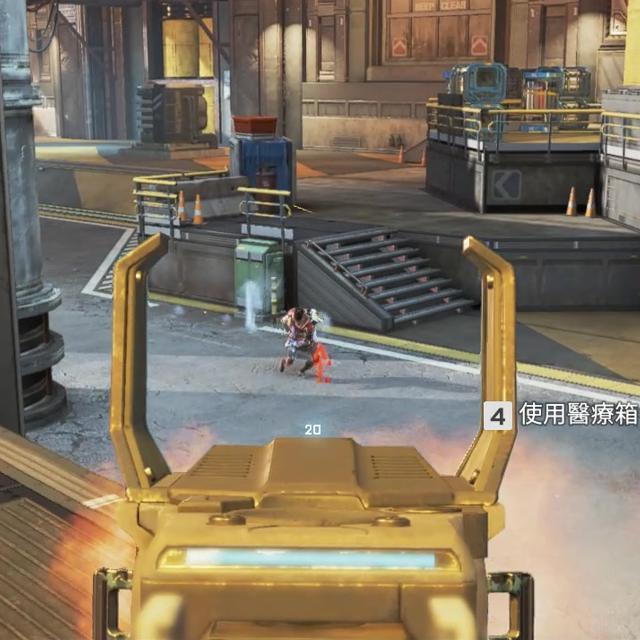avatar: (277, 304, 321, 376)
